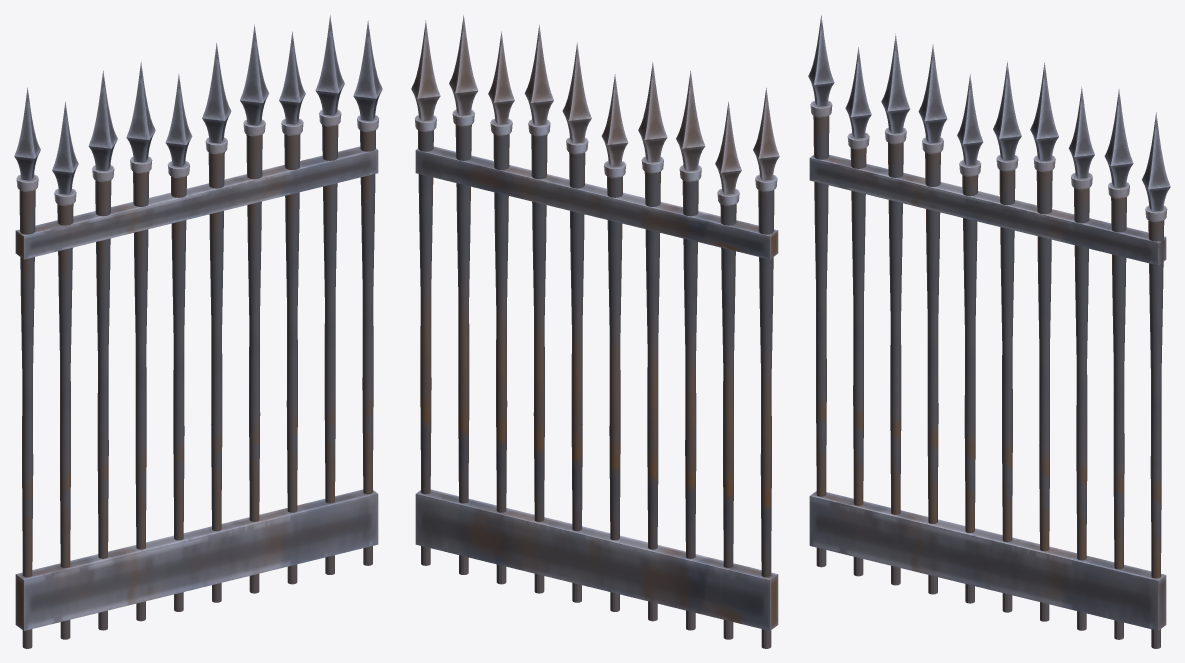
The model's file is cancellata_semplice.glb.
3 views of the same model, side by side, from view 1: azimuth 30°, elevation 25°; view 2: azimuth 150°, elevation 25°; view 3: azimuth 330°, elevation 25° (orthographic).
Visible parts, largest first — view 1: Prop_MetalFence_Simple; view 2: Prop_MetalFence_Simple; view 3: Prop_MetalFence_Simple.
Boxes of the visible parts, bbox=[...] form: Prop_MetalFence_Simple: bbox=[14, 15, 382, 648]; Prop_MetalFence_Simple: bbox=[411, 15, 779, 648]; Prop_MetalFence_Simple: bbox=[808, 15, 1170, 648].
Bounding box in the file's own units: 1.95 × 2.87 × 0.1561.
1 material, 1 textured.
